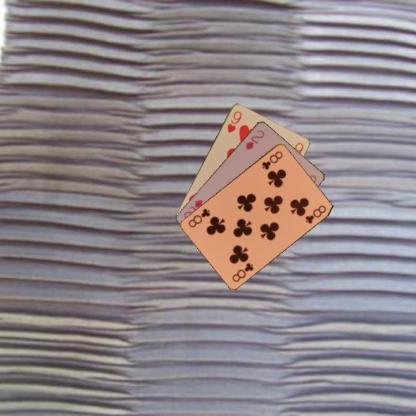2d: (243, 127, 266, 151)
8c: (229, 260, 255, 283), (259, 148, 284, 171)
9h: (224, 108, 242, 134)
